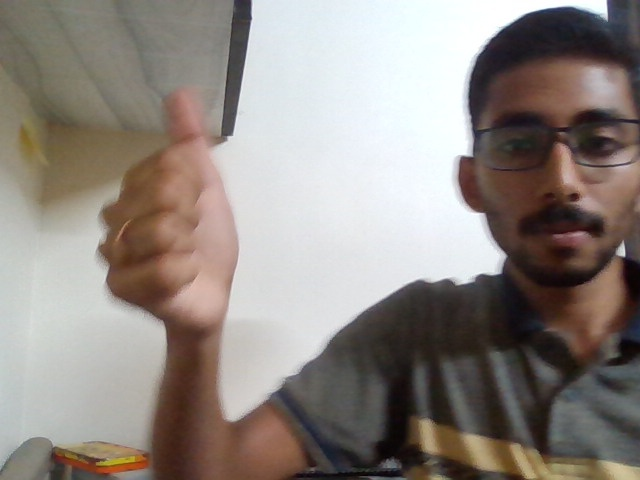Yes: (86, 72, 253, 393)
